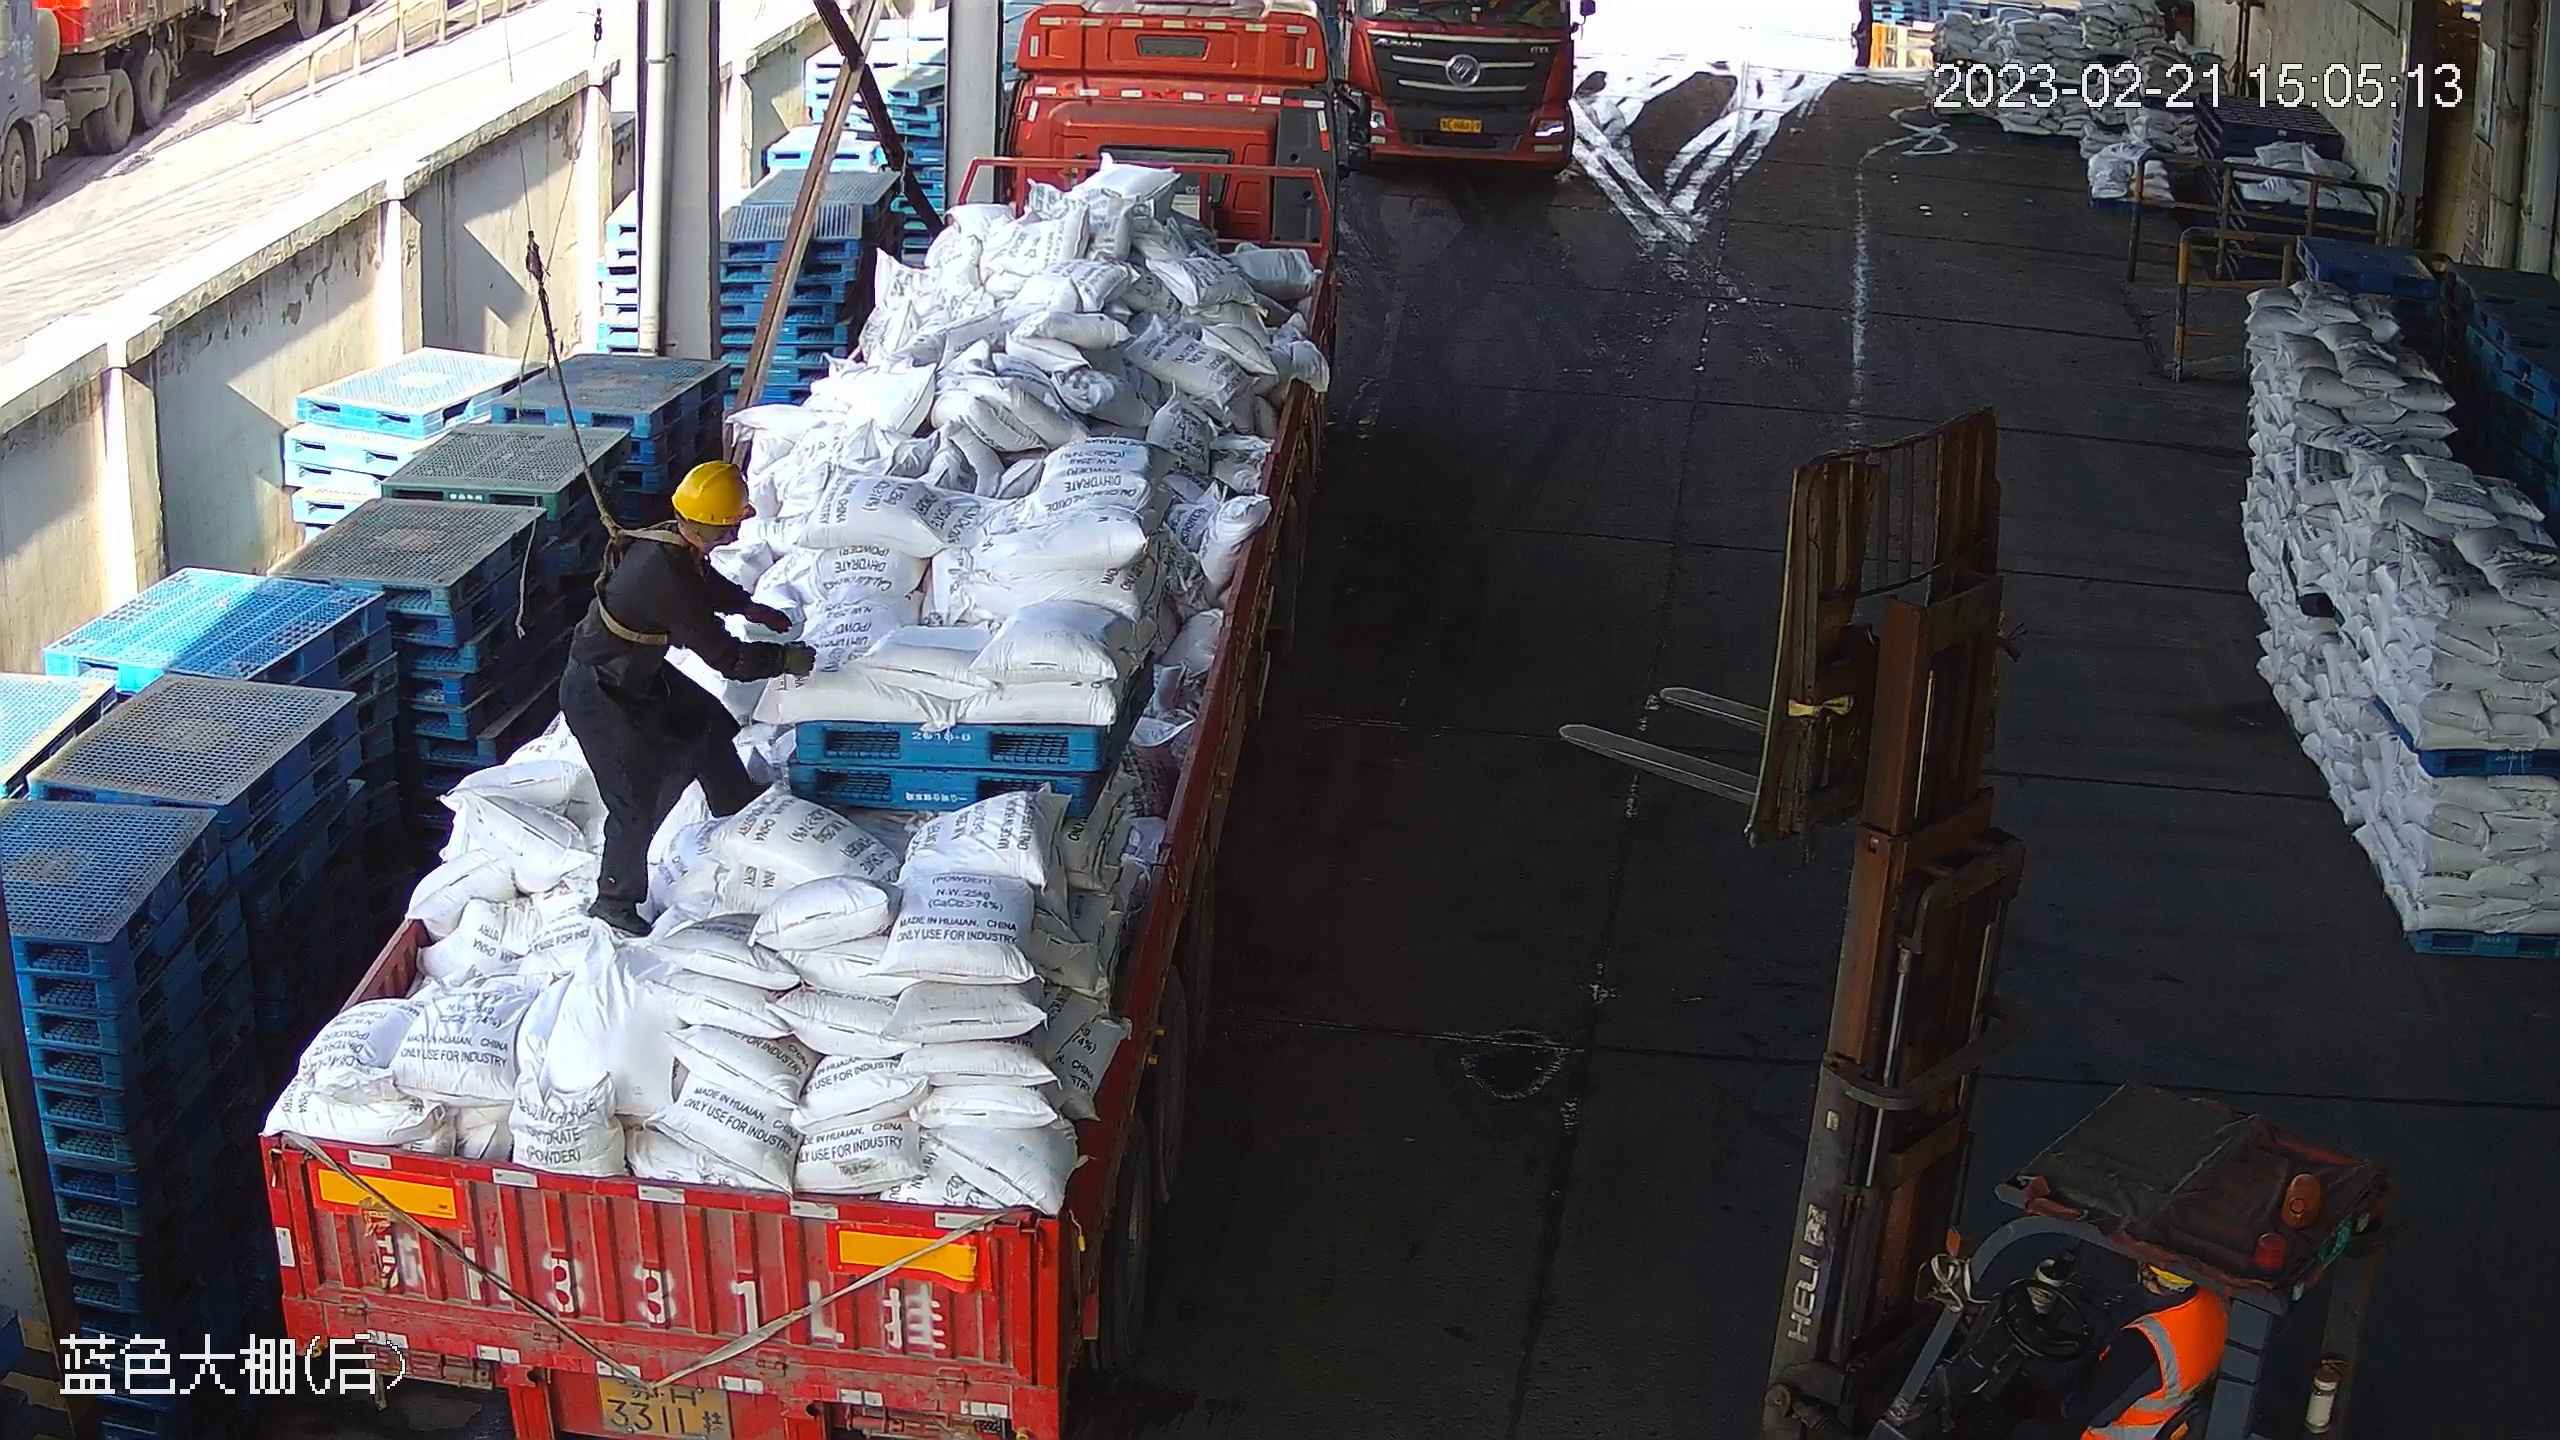belt: (583, 484, 679, 652)
head: (591, 459, 761, 635)
helmet: (673, 462, 754, 528)
people: (556, 456, 818, 939)
truck: (251, 1, 1376, 1439), (1330, 1, 1596, 183)
